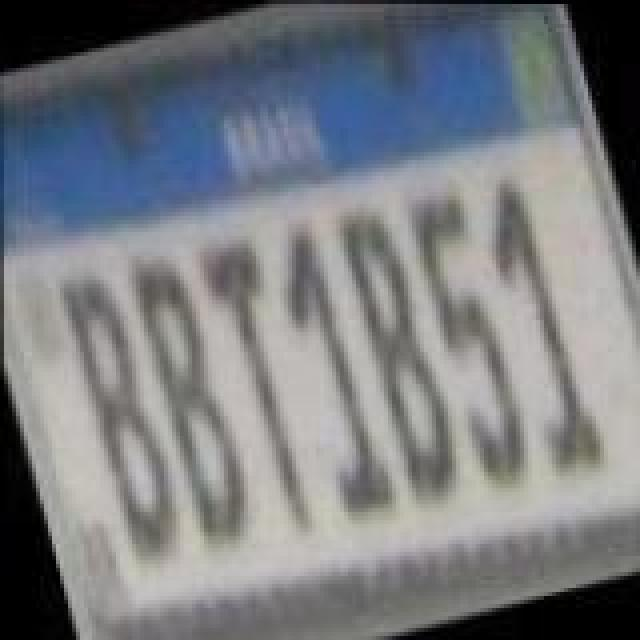1: (472, 168, 612, 488), (262, 212, 398, 528)
5: (406, 188, 542, 500)
B: (56, 264, 192, 576), (330, 198, 466, 506), (120, 250, 256, 550)
T: (192, 234, 328, 542)
